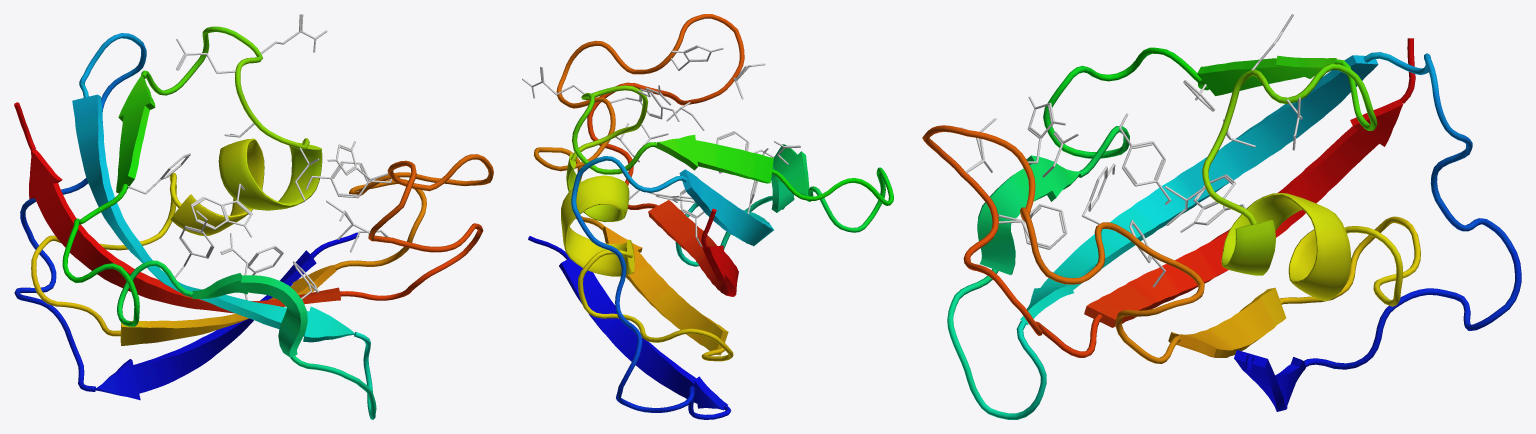
File: 1fkb_cartoon.dae
3 renders of one model, left to right at view 1: azimuth 30°, elevation 25°; view 2: azimuth 150°, elevation 25°; view 3: azimuth 270°, elevation 25°, orthographic. The views are drawn at different scales.
Visible parts, largest first — view 1: node-geom0; view 2: node-geom0; view 3: node-geom0.
Boxes of the visible parts, x1,y1,x2,y2 form: node-geom0: (14,26,493,419); node-geom0: (528,14,893,419); node-geom0: (922,38,1521,419).
Size of the model in its own units: 32.03 by 27.11 by 35.58.
